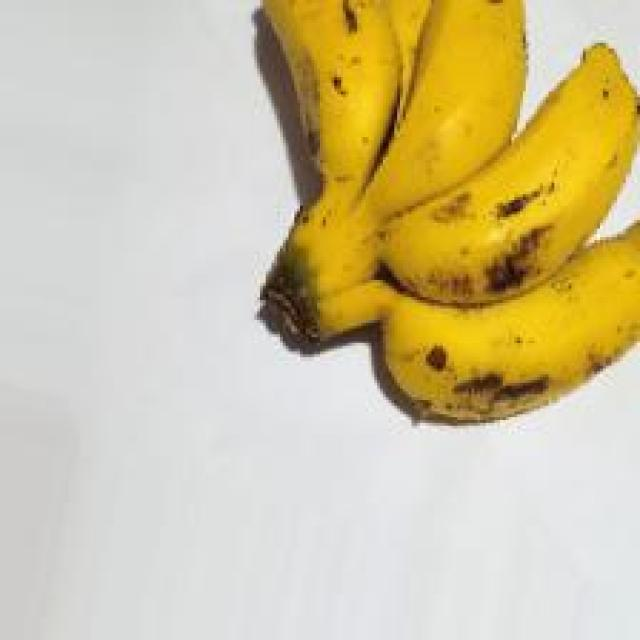bananas: (165, 29, 629, 422)
